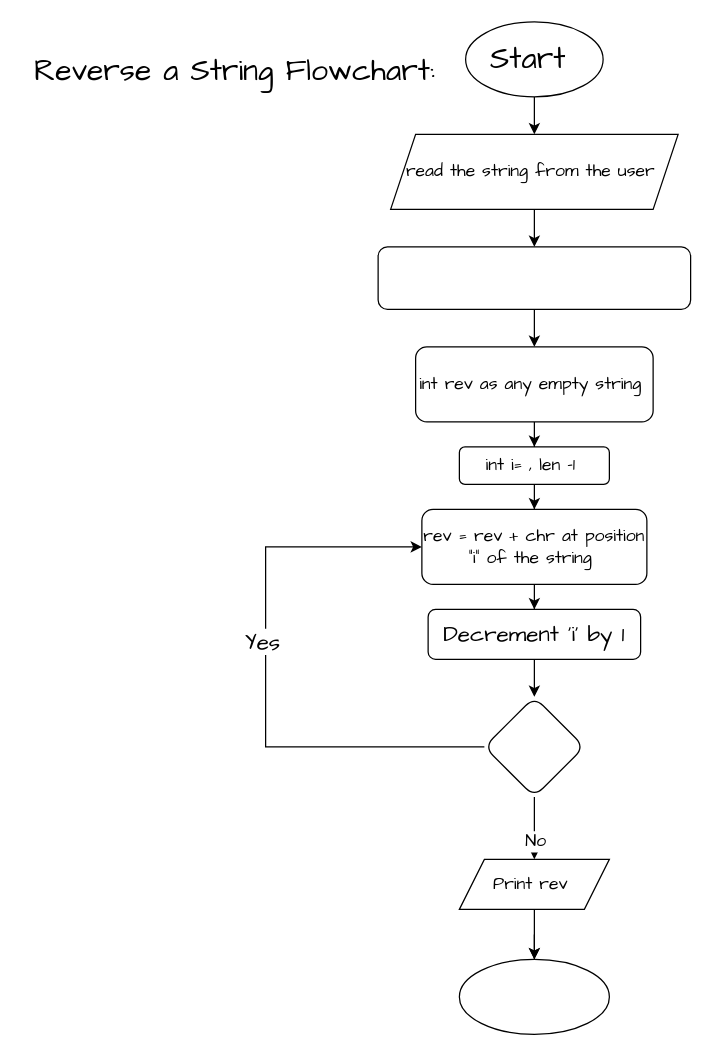
This 713x1056 diagram has some shape labels left out. The centre of each missing label's shape, as x and y in pixels:
Calculate the len of the string: pixel 534 277
is i >= 0: pixel 533 746
Stop: pixel 533 996
